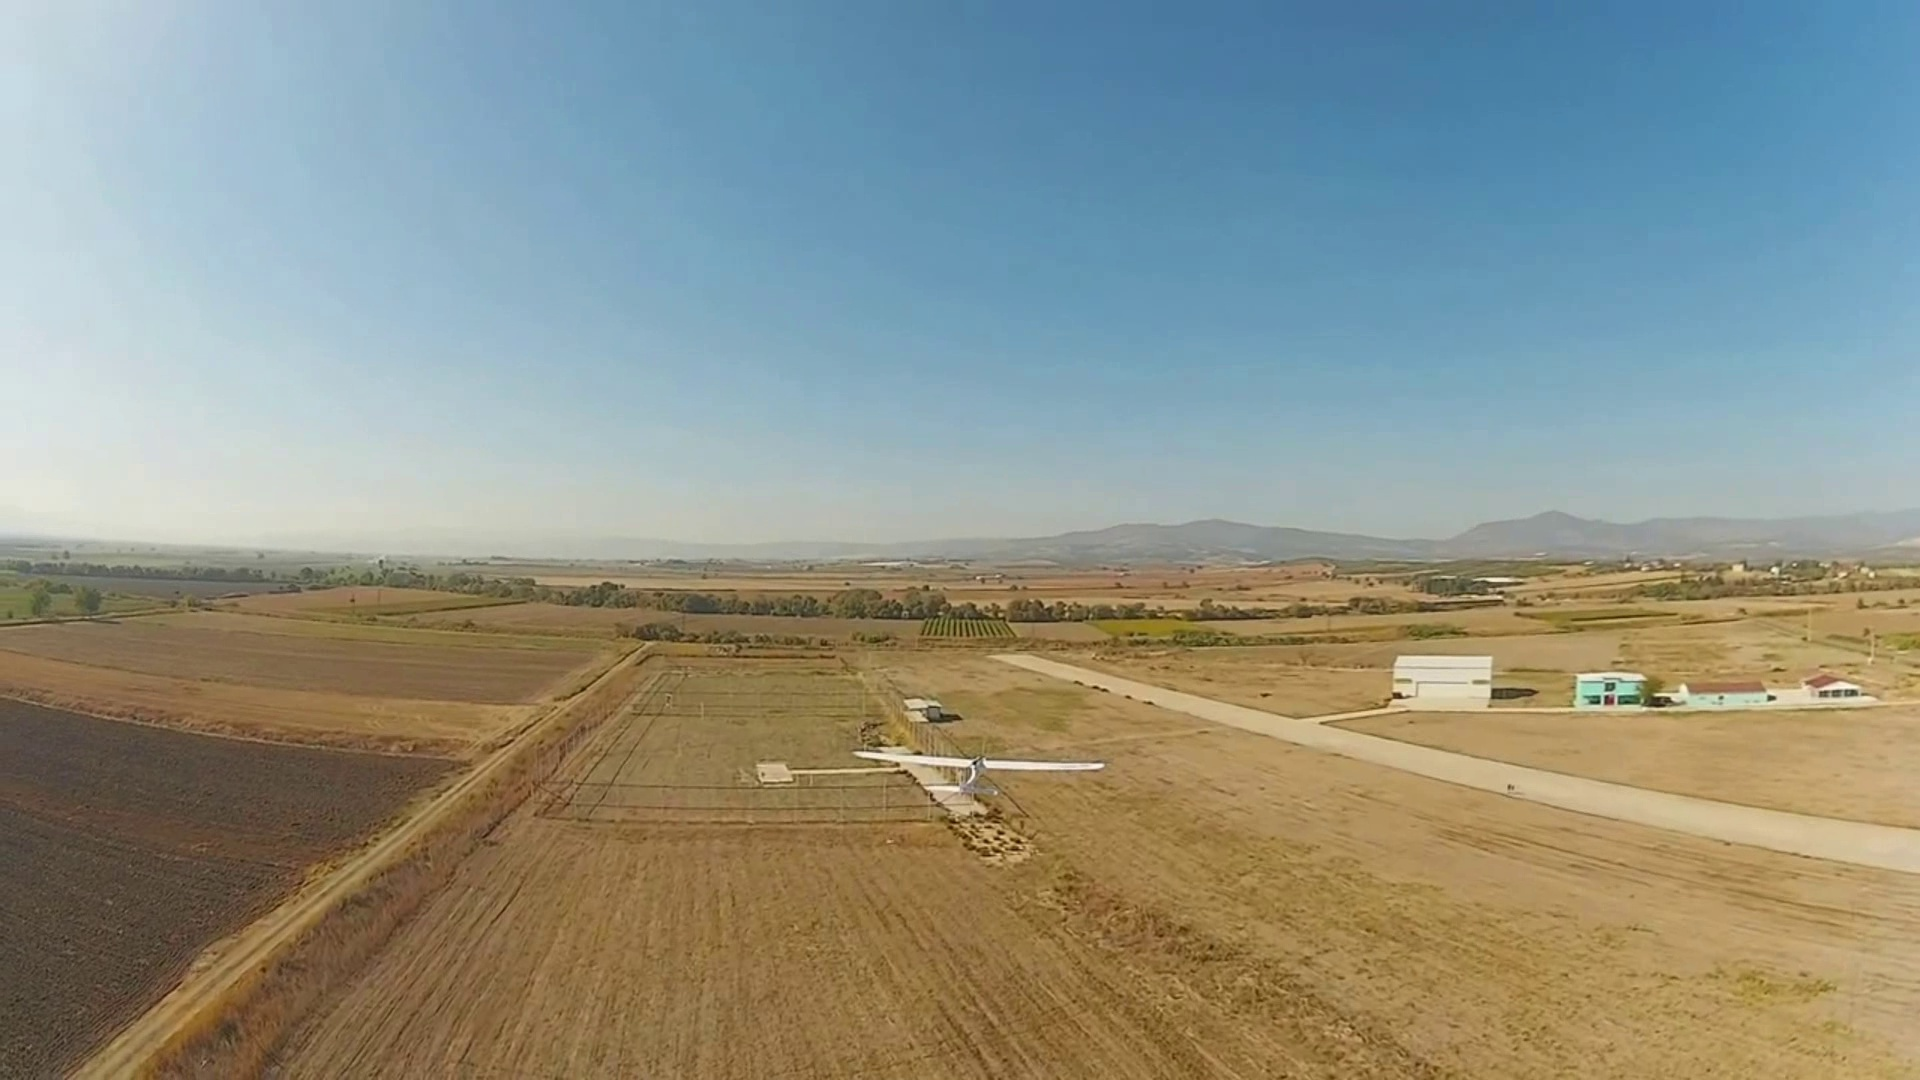airplane: (852, 688, 1106, 812)
